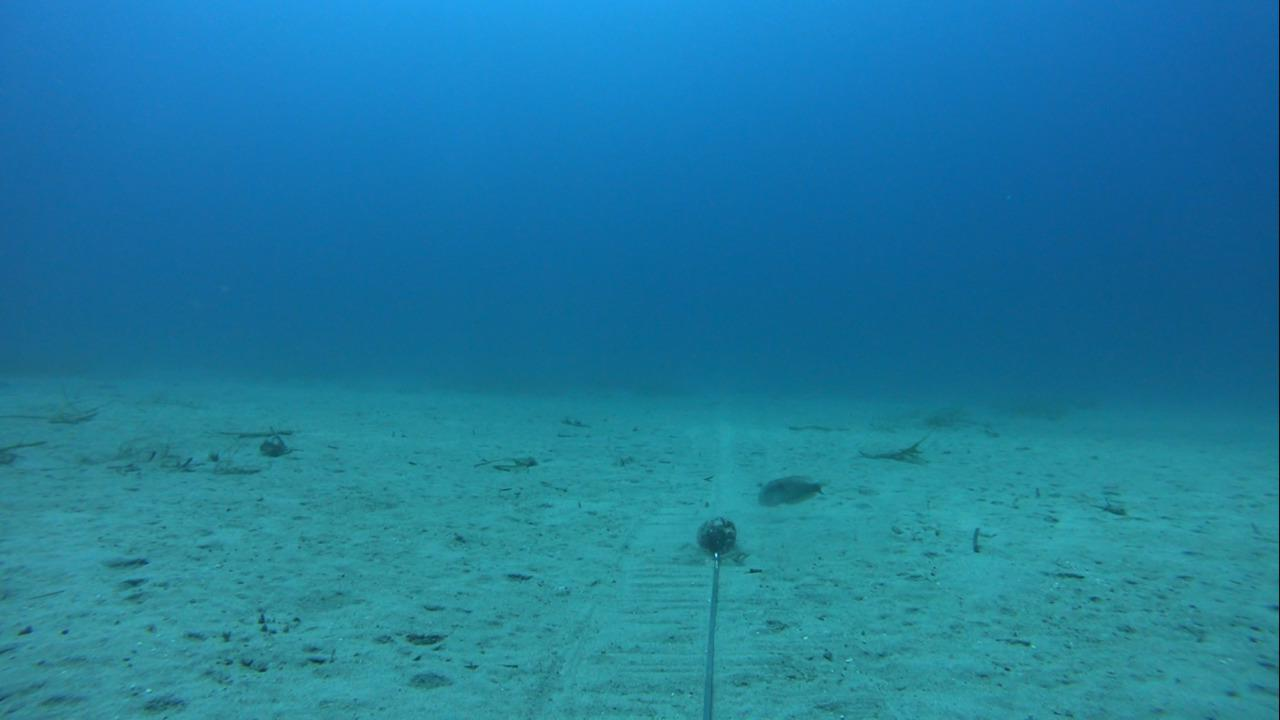raor: (752, 471, 825, 511)
